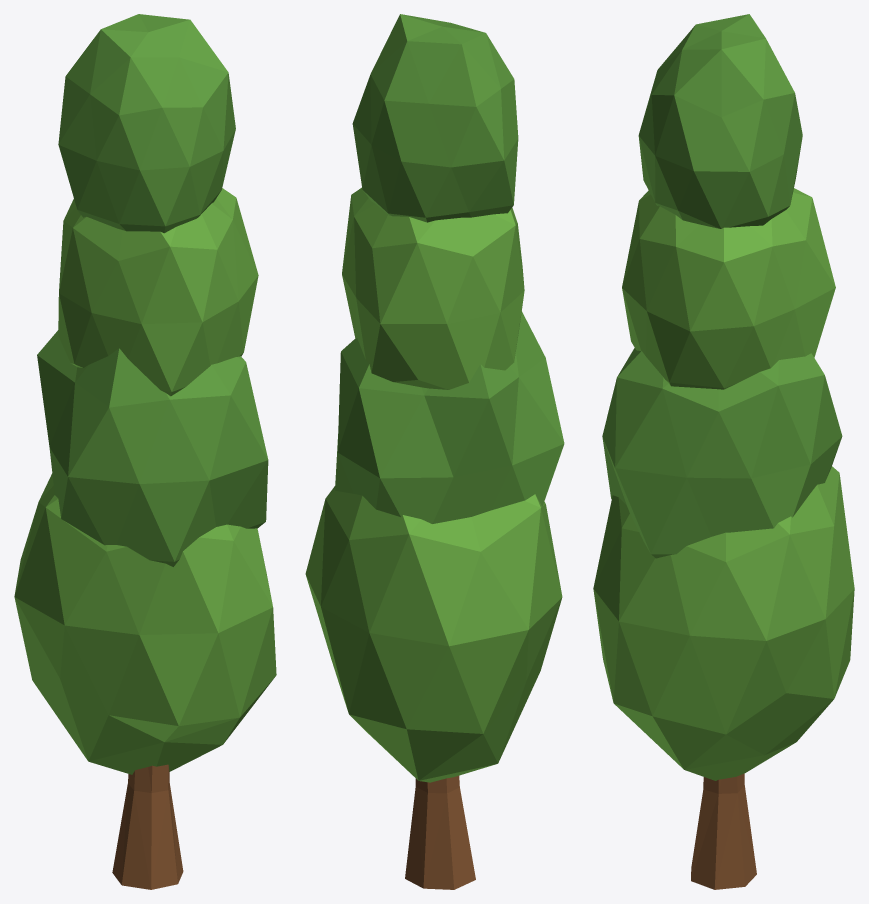
Rendered from HS_LP_Tree_Poplar_01.fbx.
3 renders of one model, left to right at view 1: azimuth 30°, elevation 25°; view 2: azimuth 150°, elevation 25°; view 3: azimuth 270°, elevation 25°, orthographic.
Visible parts, largest first — view 1: HS_LP_Tree_Poplar_01; view 2: HS_LP_Tree_Poplar_01; view 3: HS_LP_Tree_Poplar_01.
Boxes of the visible parts, bbox=[...] form: HS_LP_Tree_Poplar_01: bbox=[14, 14, 276, 889]; HS_LP_Tree_Poplar_01: bbox=[305, 14, 564, 889]; HS_LP_Tree_Poplar_01: bbox=[593, 14, 854, 889].
Bounding box in the file's own units: 179 × 648 × 181.
